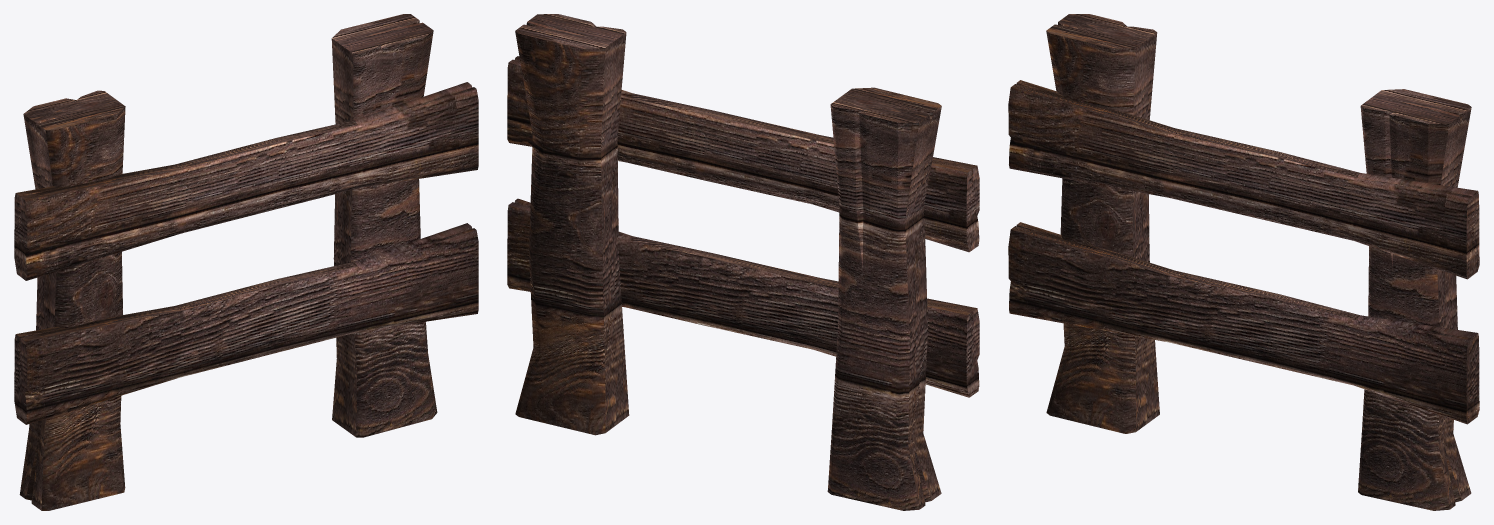
The model's file is CercaUno.fbx.
3 views of the same model, side by side, from view 1: azimuth 30°, elevation 25°; view 2: azimuth 150°, elevation 25°; view 3: azimuth 330°, elevation 25° (orthographic).
Parts seen in each view (by area): view 1: Cerca; view 2: Cerca; view 3: Cerca.
Boxes of the visible parts, x1=… form: Cerca: x1=14, y1=14, x2=478, y2=510; Cerca: x1=507, y1=14, x2=979, y2=510; Cerca: x1=1008, y1=14, x2=1479, y2=510.
Size of the model in its own units: 0.3266 by 0.2633 by 0.0505.
